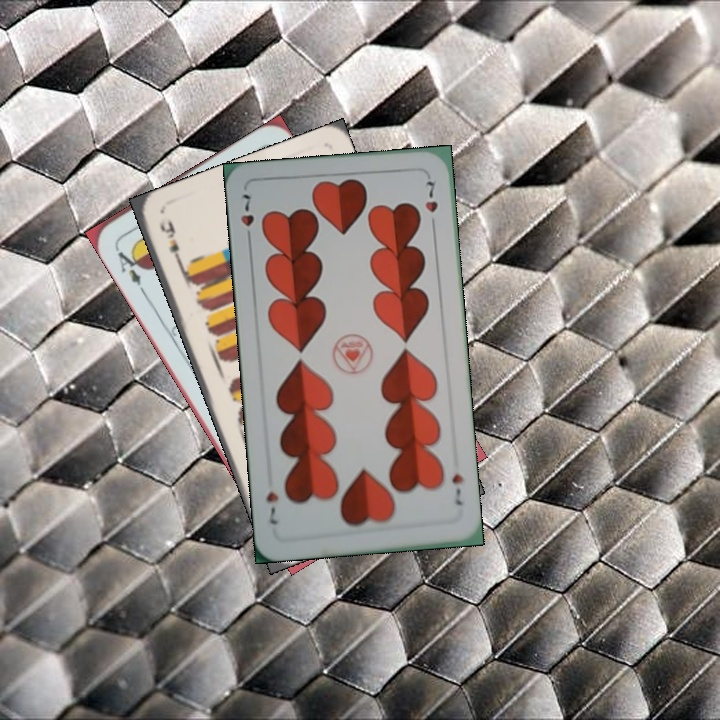E9: (155, 214, 186, 270)
EA: (111, 242, 148, 295)
H7: (236, 190, 257, 246), (447, 470, 466, 508)
